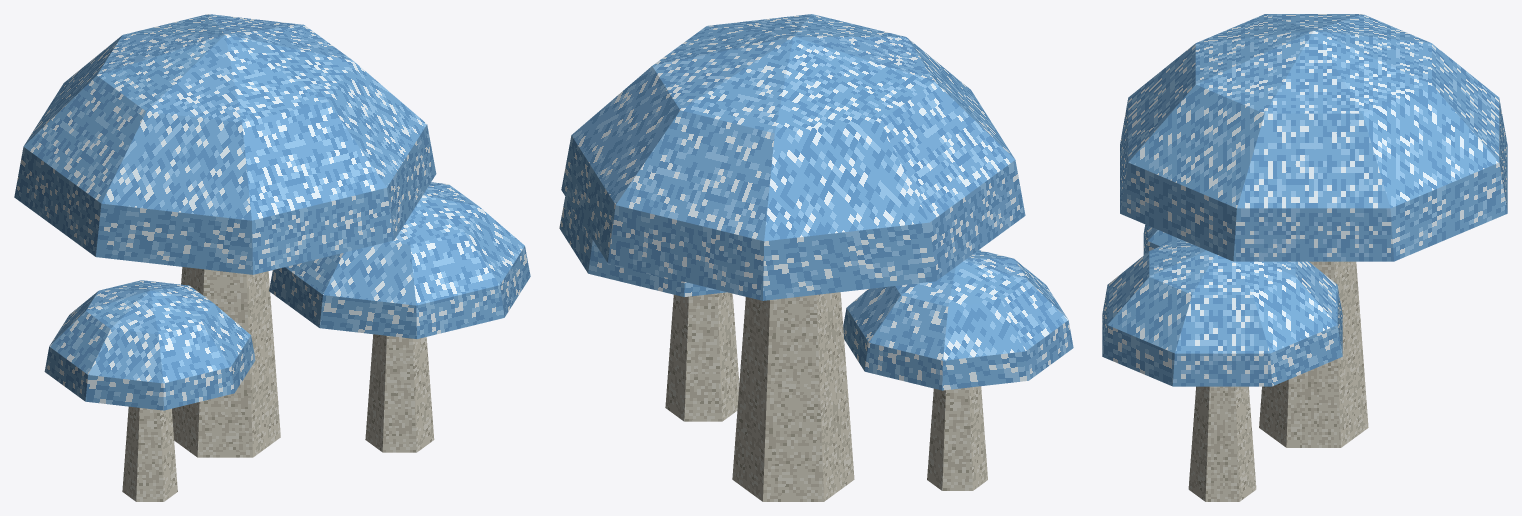
Rendered from frostcap.glb.
3 renders of one model, left to right at view 1: azimuth 30°, elevation 25°; view 2: azimuth 150°, elevation 25°; view 3: azimuth 270°, elevation 25°, orthographic. The views are drawn at different scales.
Visible parts, largest first — view 1: Body.001; view 2: Body.001; view 3: Body.001.
Part boxes in pixels (box(x1,y1,x2,y2)): Body.001: box(14, 14, 530, 501); Body.001: box(559, 14, 1073, 501); Body.001: box(1102, 14, 1507, 501).
Size of the model in its own units: 0.269 by 0.24 by 0.2221.
3 materials, 2 textured.
